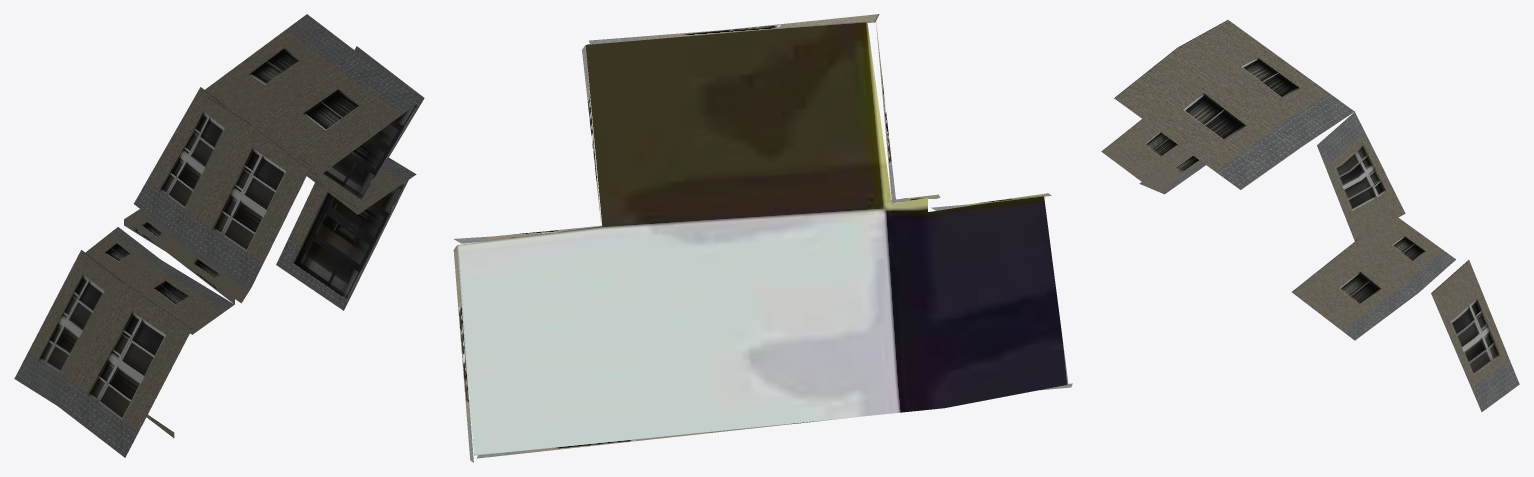
The model's file is tile_LOD4_r9_c7.glb.
3 renders of one model, left to right at view 1: azimuth 30°, elevation 25°; view 2: azimuth 150°, elevation 25°; view 3: azimuth 270°, elevation 25°, orthographic. The views are drawn at different scales.
Size of the model in its own units: 19.75 by 14.75 by 16.5.
5 materials, 5 textured.
